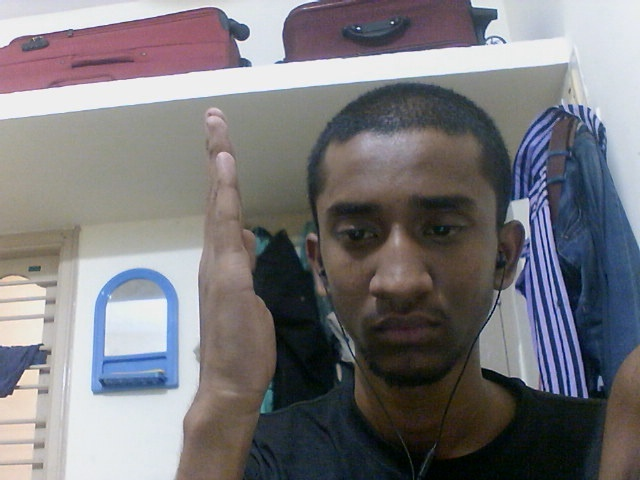hand: (193, 104, 279, 404)
